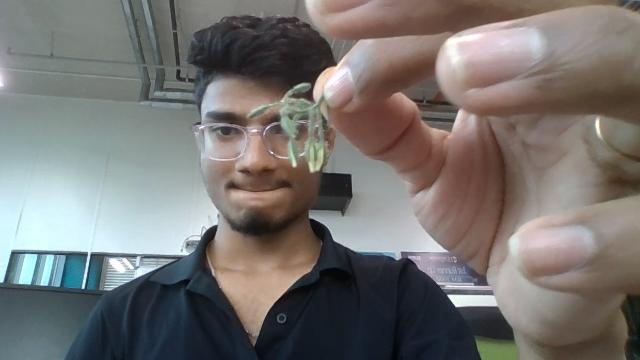Flower Bud: (250, 82, 313, 120), (248, 100, 287, 119), (308, 137, 326, 174), (281, 109, 298, 143), (288, 136, 299, 167)
